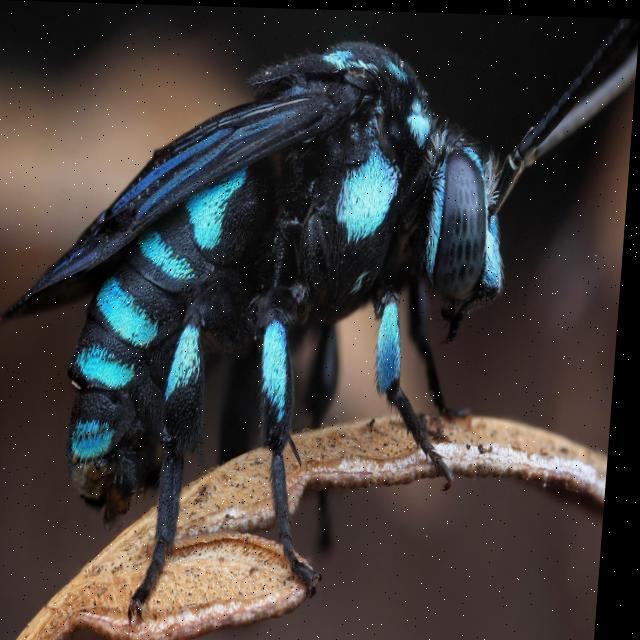Thyreus: (0, 0, 640, 635)
